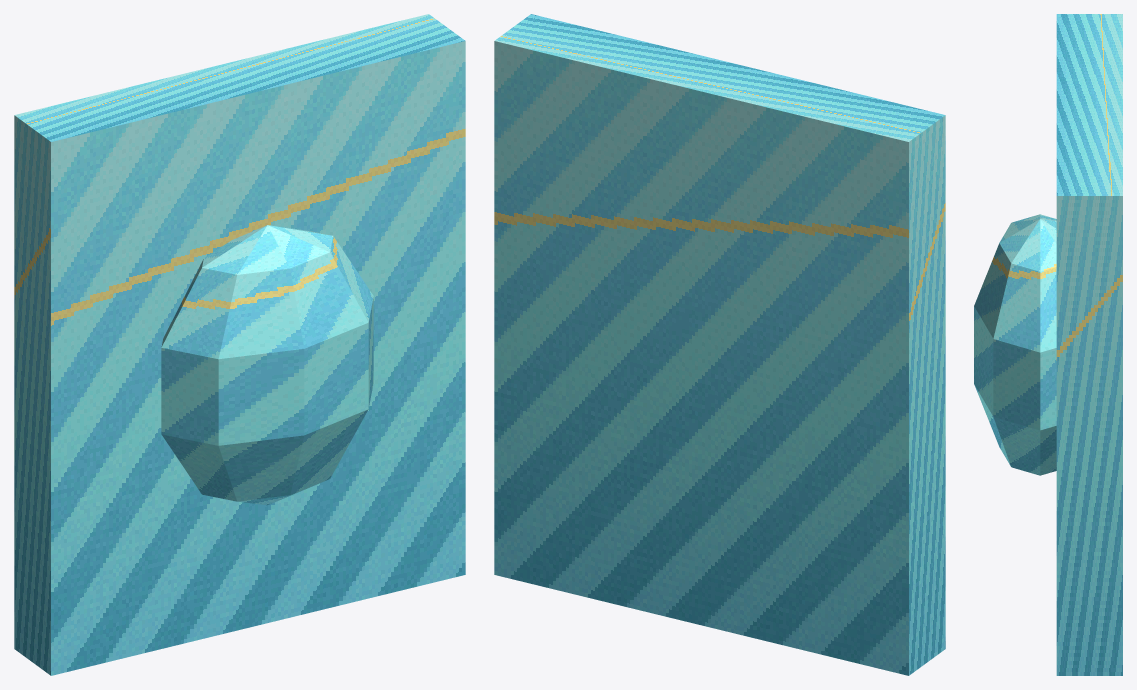
Rendered from reliquia_endgame_03_egide_glacial.glb.
The picture shows the model from 3 angles, left to right: view 1: azimuth 30°, elevation 25°; view 2: azimuth 150°, elevation 25°; view 3: azimuth 270°, elevation 25°; orthographic projection. The views are drawn at different scales.
Parts seen in each view (by area): view 1: reliquia_endgame_03_egide_glacial; view 2: reliquia_endgame_03_egide_glacial; view 3: reliquia_endgame_03_egide_glacial.
Part boxes in pixels (x1,y1,x2,y2): reliquia_endgame_03_egide_glacial: (14,14,465,675); reliquia_endgame_03_egide_glacial: (494,14,945,675); reliquia_endgame_03_egide_glacial: (974,14,1122,675).
Bounding box in the file's own units: 0.52 × 0.64 × 0.1799.
1 material, 1 textured.
